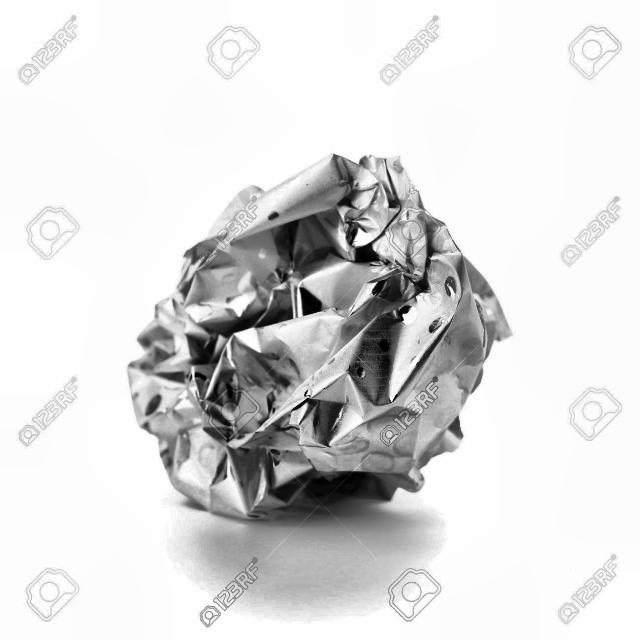Foil: (123, 130, 515, 524)
